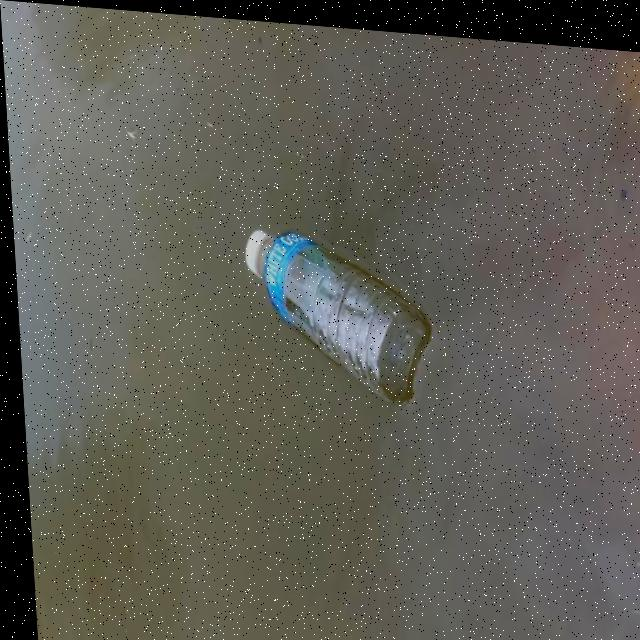waterbottle: (228, 215, 456, 403)
